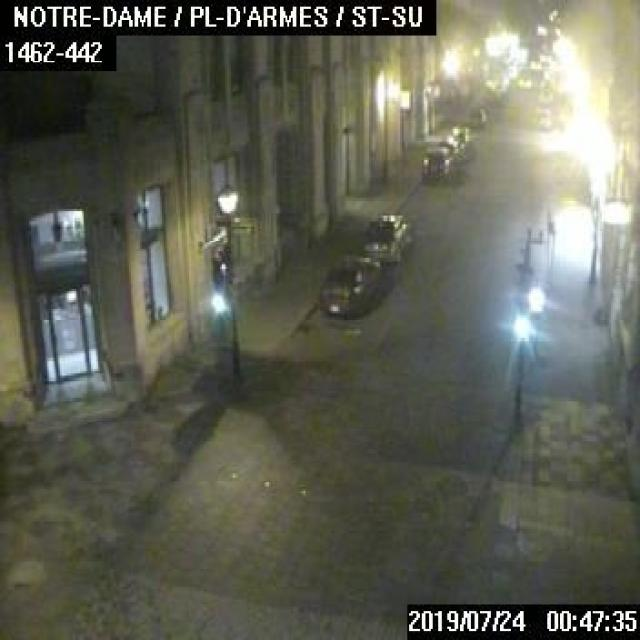pedestrian: (544, 209, 554, 249)
vehicle: (315, 255, 383, 318), (358, 213, 416, 268), (418, 144, 454, 178), (436, 134, 464, 163)
